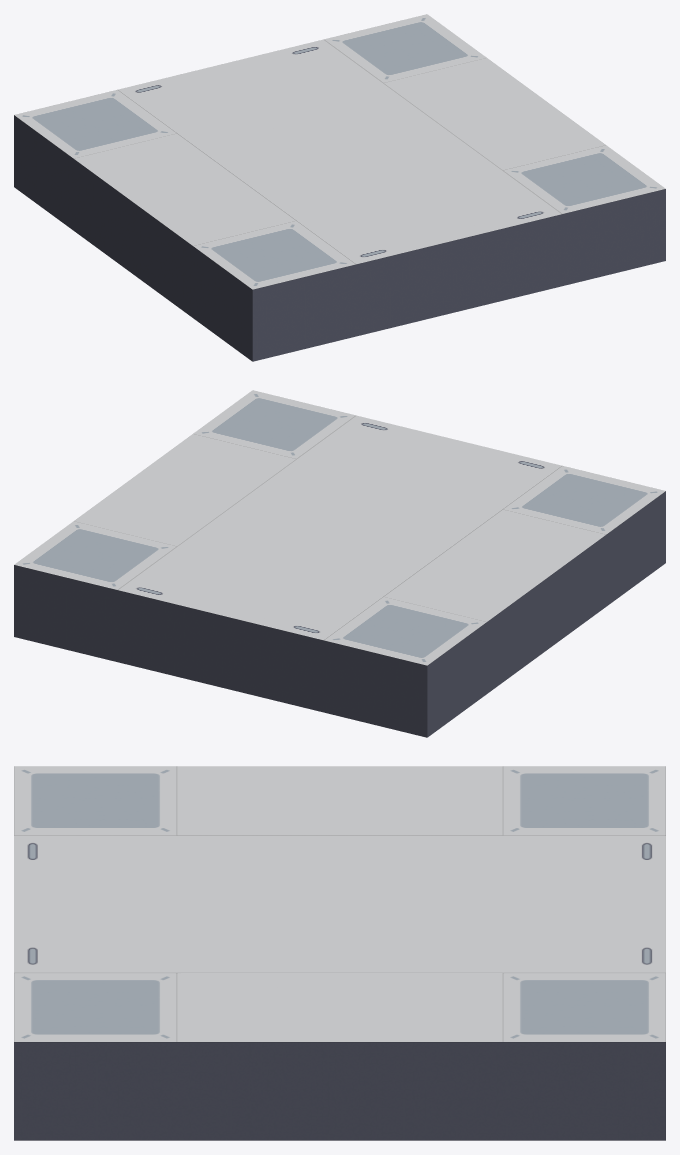
The model's file is Floor_07.FBX.
The picture shows the model from 3 angles, top to bottom: view 1: azimuth 30°, elevation 25°; view 2: azimuth 150°, elevation 25°; view 3: azimuth 270°, elevation 25°; orthographic projection. The views are drawn at different scales.
Visible parts, largest first — view 1: Floor_07; view 2: Floor_07; view 3: Floor_07.
Part boxes in pixels (x1,y1,x2,y2): Floor_07: [14, 14, 665, 361]; Floor_07: [14, 390, 665, 737]; Floor_07: [14, 766, 665, 1140].
Bounding box in the file's own units: 6 × 1 × 6.
